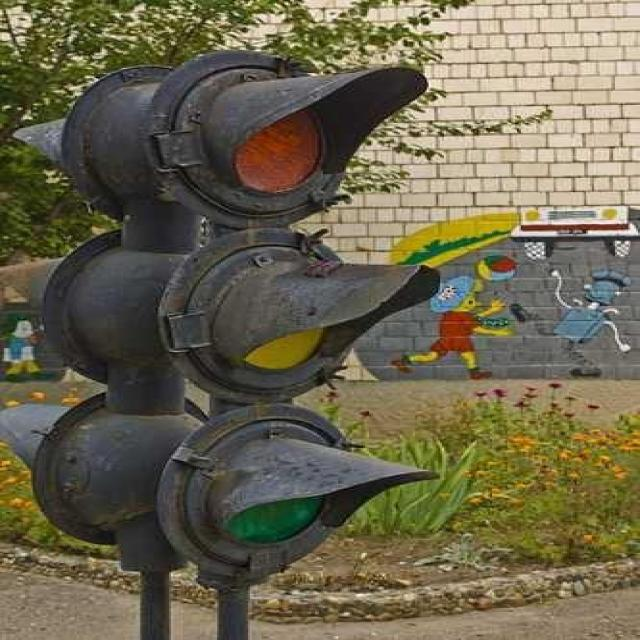Traffic Light -Off-: (53, 42, 451, 588)
